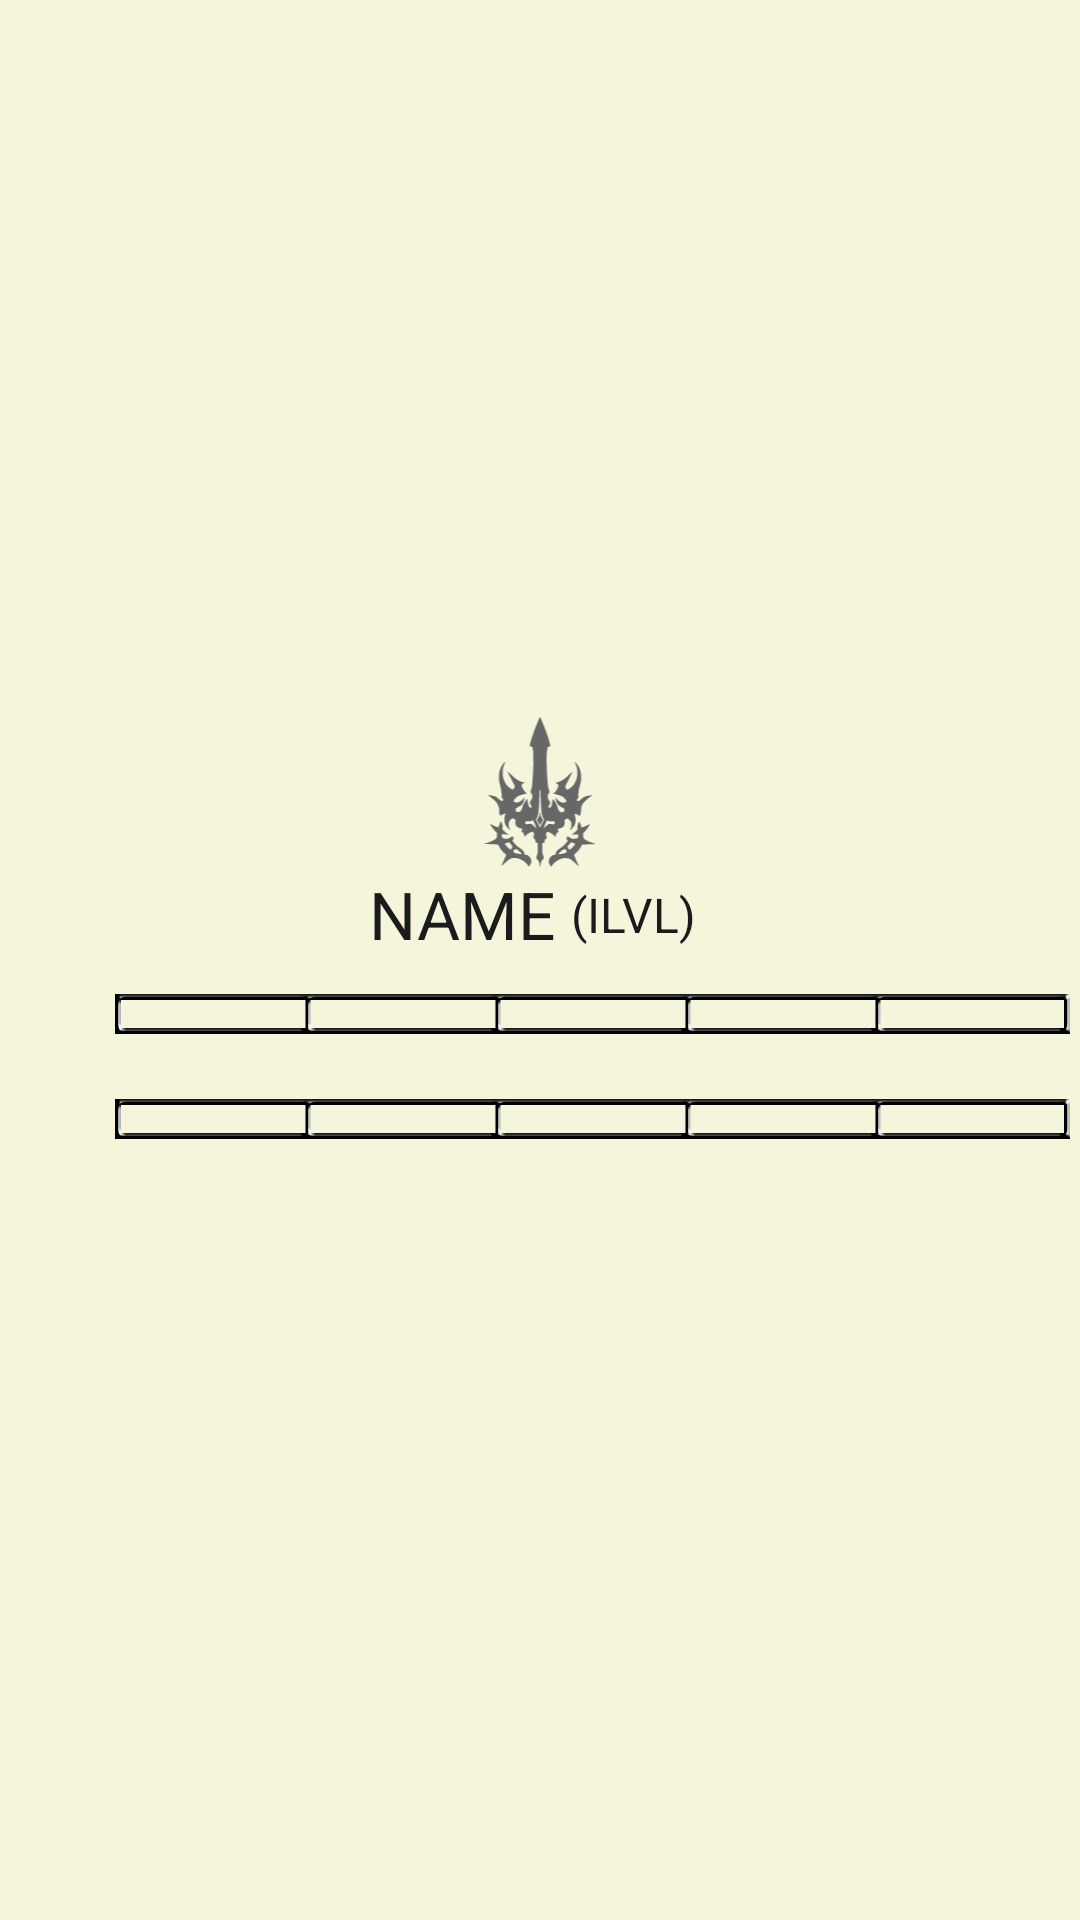

Icon click points for this 1080×1920 phone screenshot, format point (x, y):
berserker: point (539, 792)
